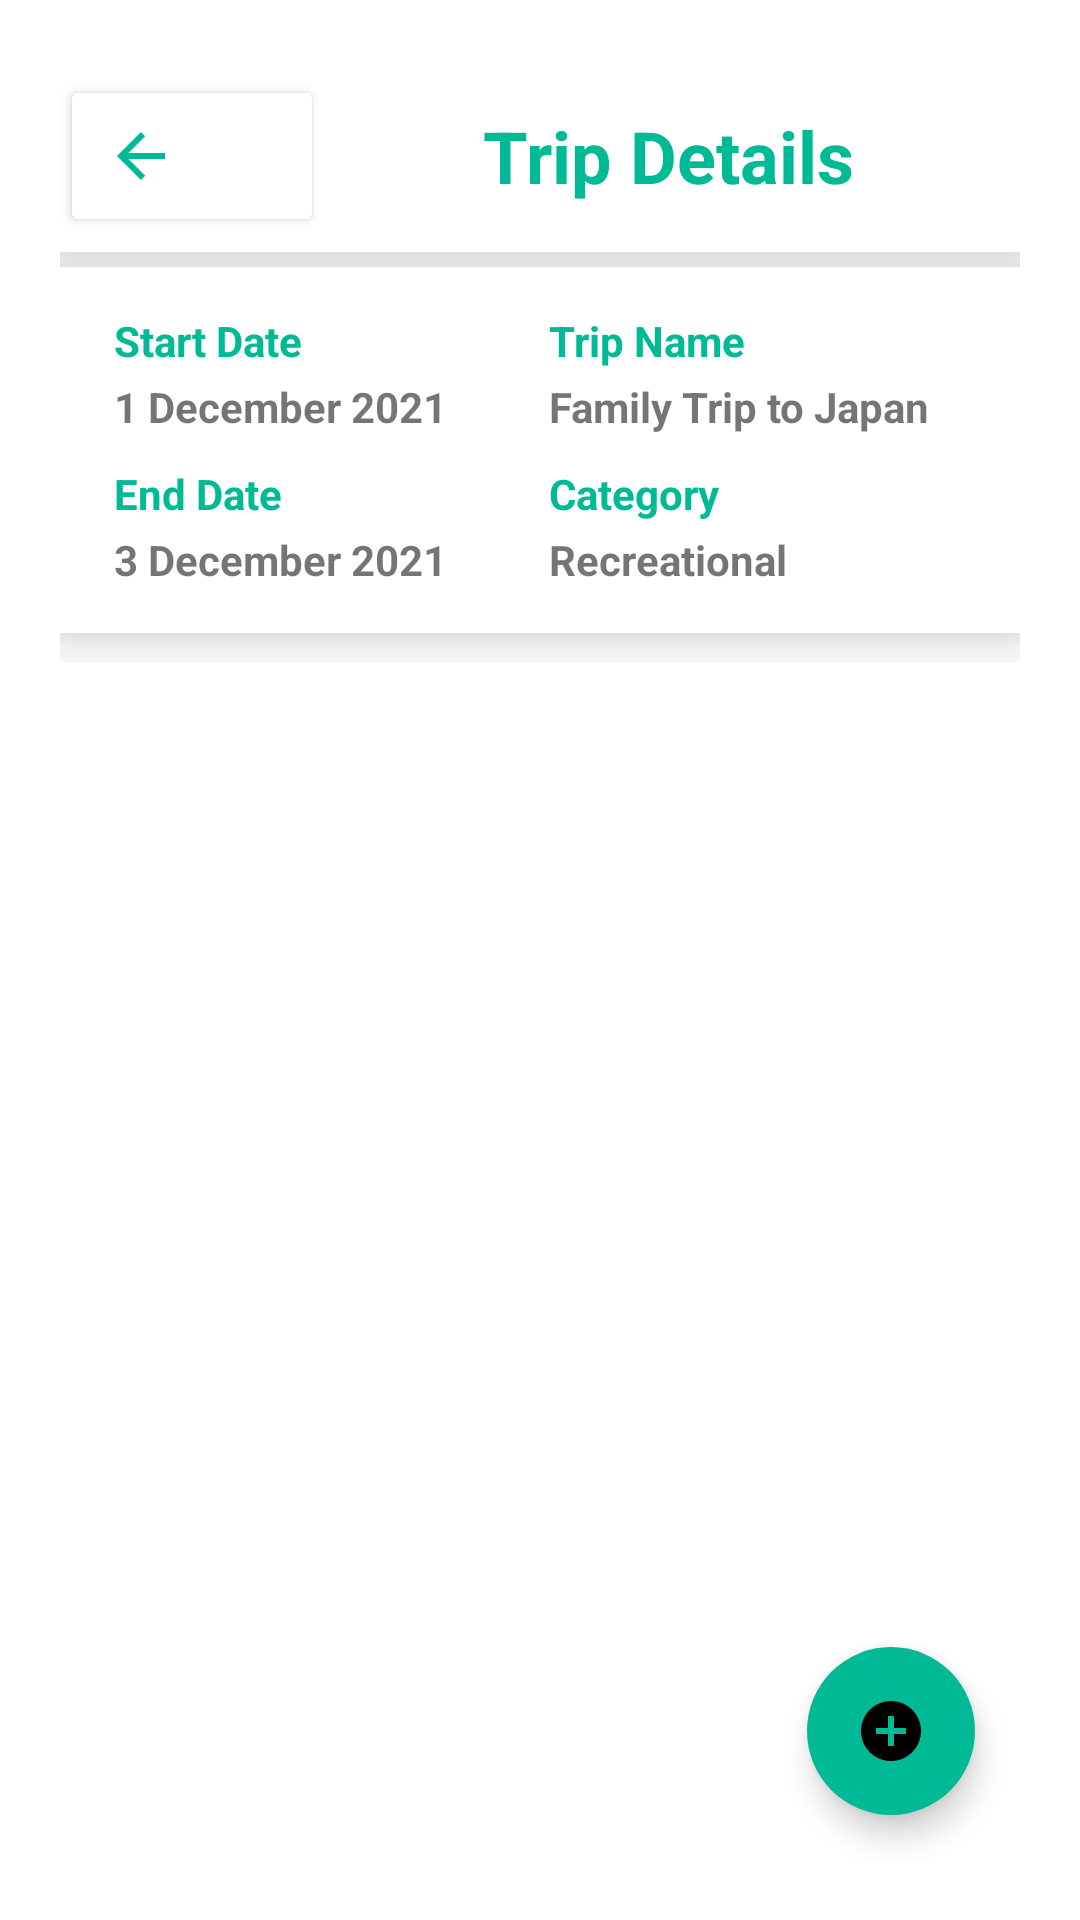

Named icons in this screenshot (1080px×1920px) and their bounding boxes, (x1, y1, x2, y2):
add circle: (807, 1647, 975, 1815)
